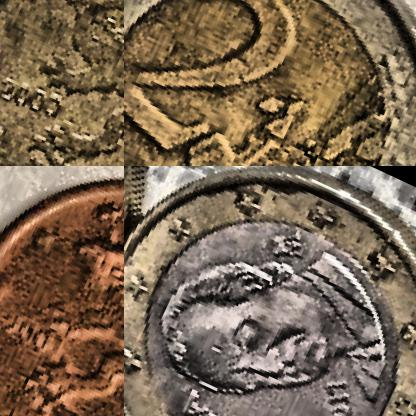coin: (124, 166, 415, 415), (124, 0, 415, 165), (0, 166, 123, 415), (0, 0, 123, 165)
